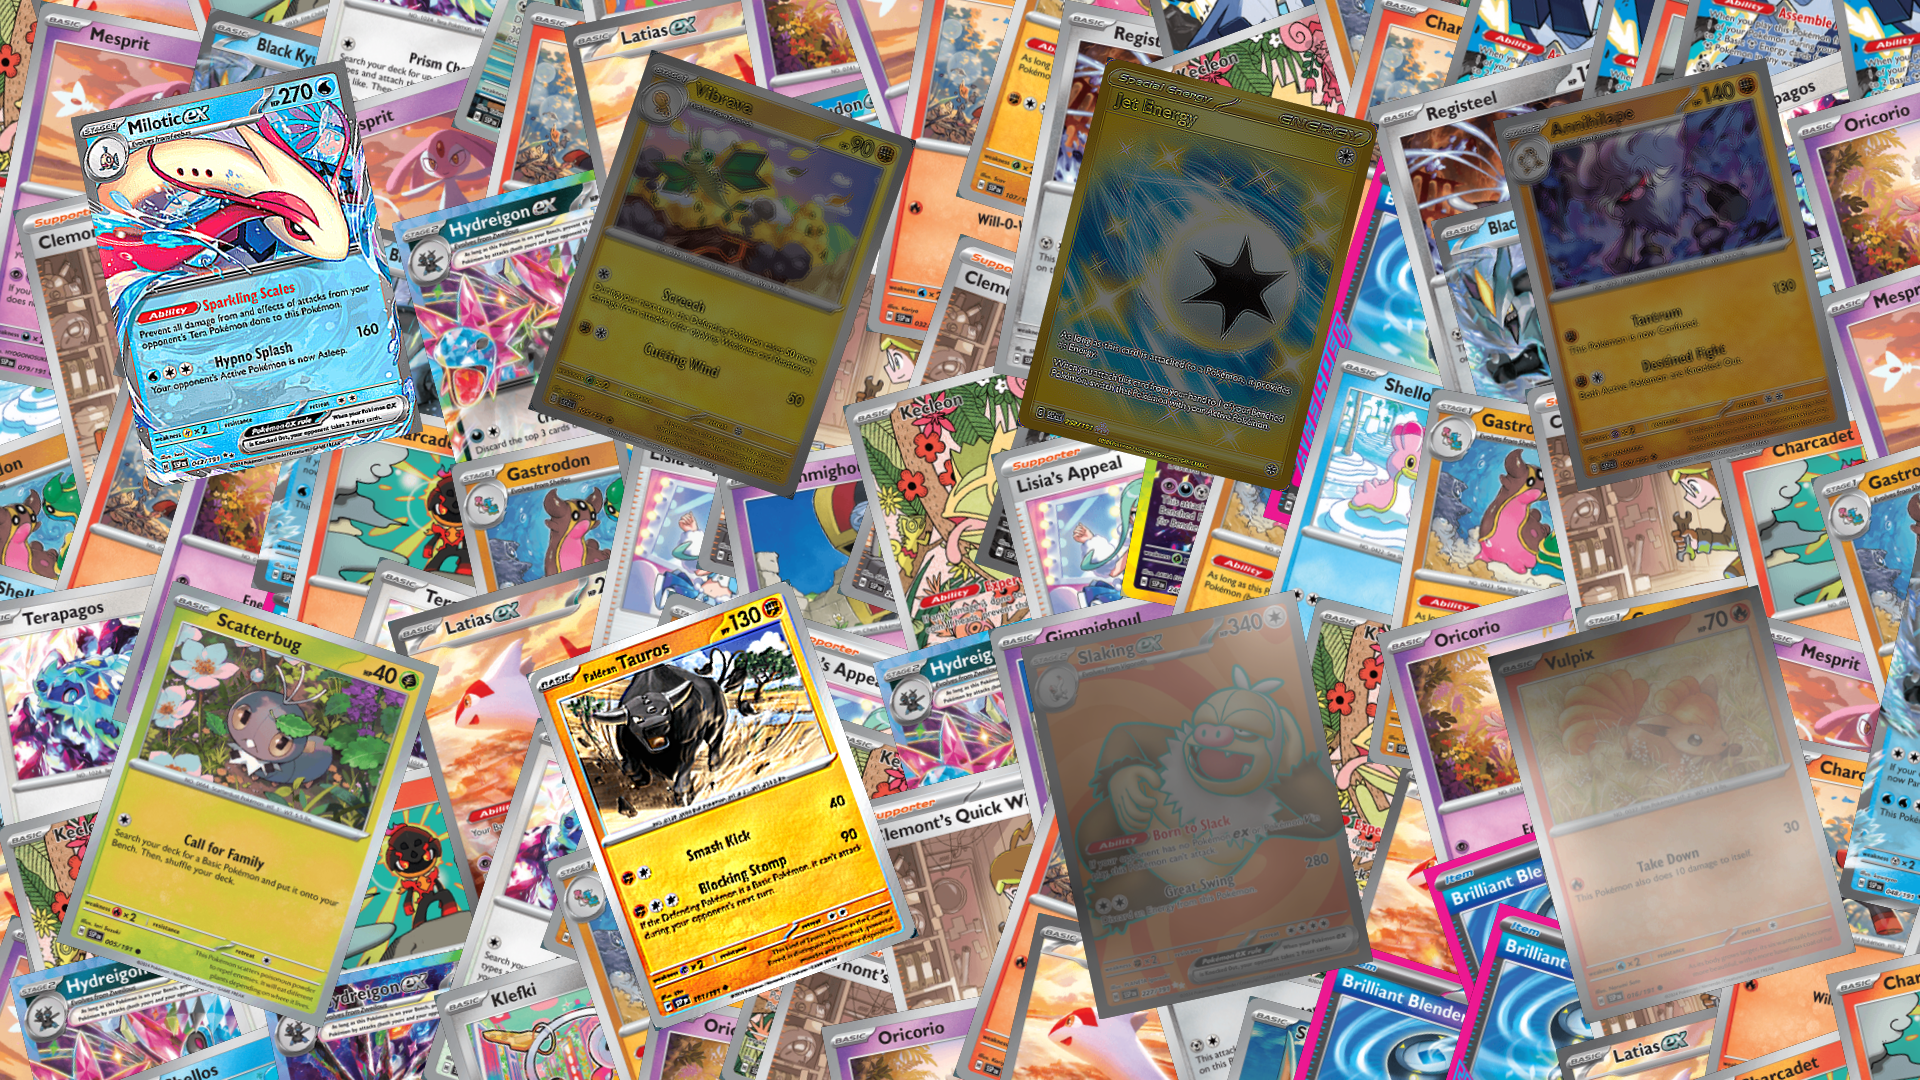Annihilape: (1491, 57, 1851, 491)
Jet_Energy: (1015, 55, 1379, 493)
Milotic_ex: (70, 59, 423, 489)
Paldean_Tauros: (525, 578, 919, 1031)
Scatterbug: (55, 580, 439, 1029)
Slaking_ex: (1021, 589, 1373, 1019)
Vibrava: (527, 49, 916, 500)
Vulpix: (1487, 584, 1855, 1025)
